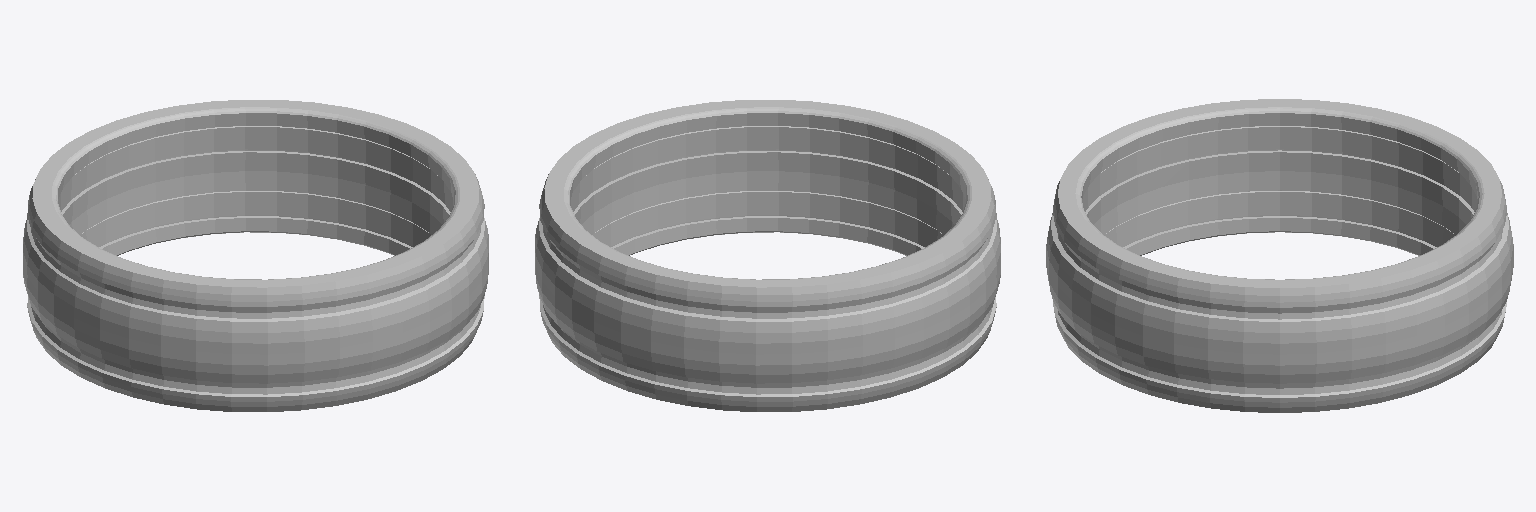
The model's file is Steel Ring.obj.
3 renders of one model, left to right at view 1: azimuth 30°, elevation 25°; view 2: azimuth 150°, elevation 25°; view 3: azimuth 270°, elevation 25°, orthographic.
Visible parts, largest first — view 1: Steel_Ring; view 2: Steel_Ring; view 3: Steel_Ring.
Part boxes in pixels (x1,y1,x2,y2): Steel_Ring: (23,100,488,411); Steel_Ring: (535,100,1000,411); Steel_Ring: (1046,99,1513,412).
Size of the model in its own units: 20.36 by 6.01 by 20.36.